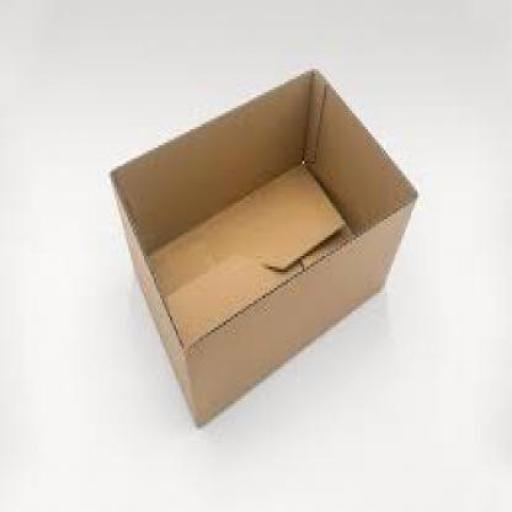cardboard: (104, 63, 414, 423)
